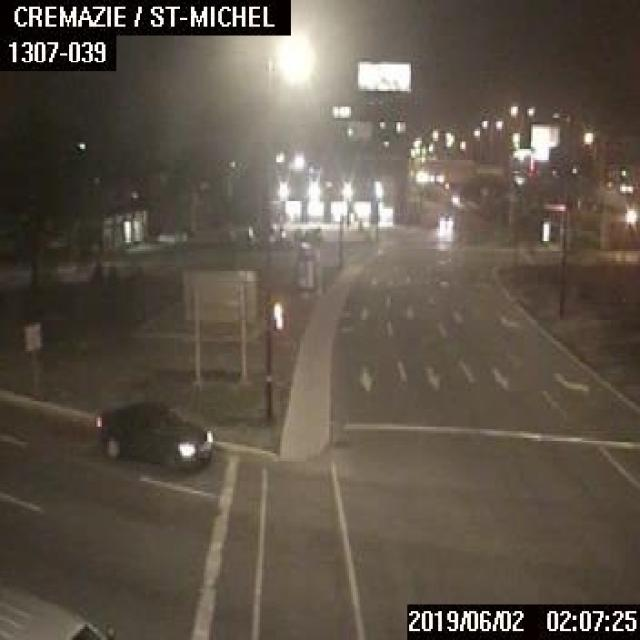vehicle: (89, 400, 213, 471), (0, 582, 118, 638), (435, 210, 454, 228)
